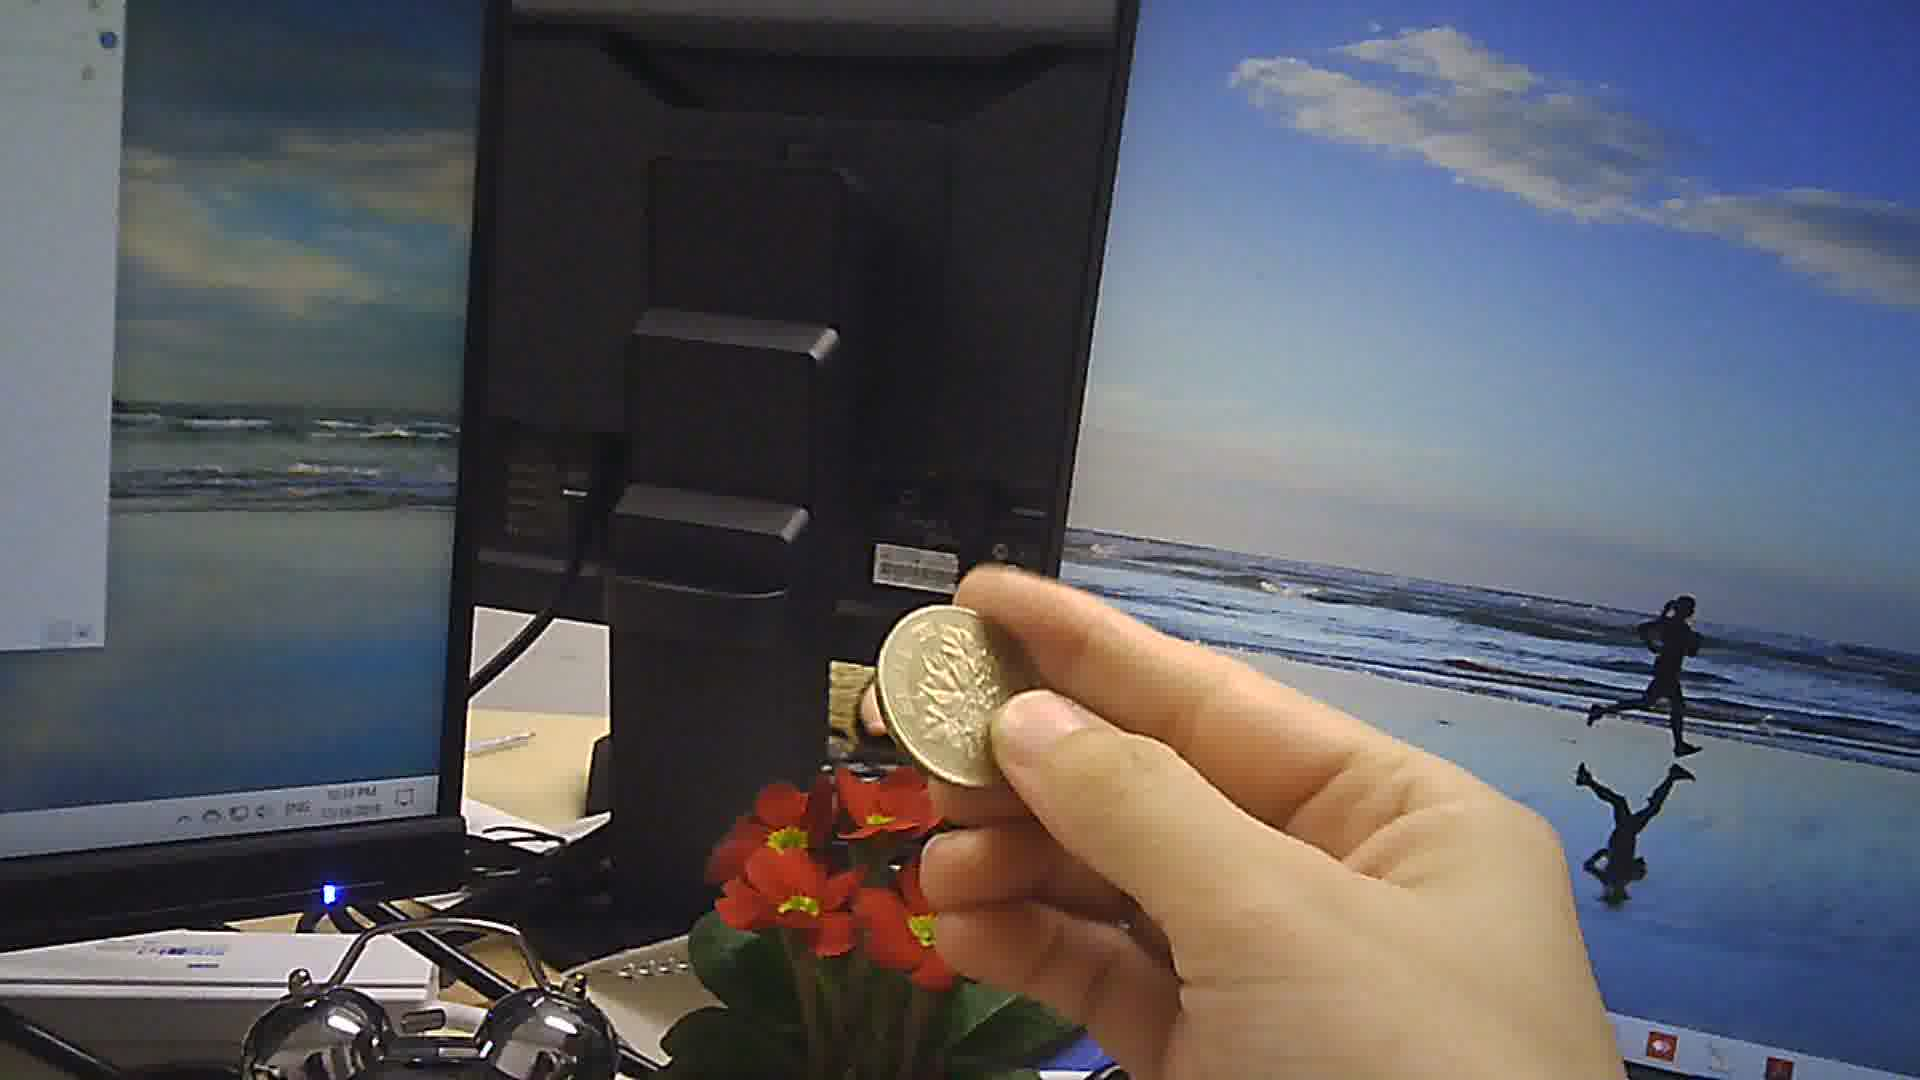500 Yen: (868, 588, 1058, 786)
